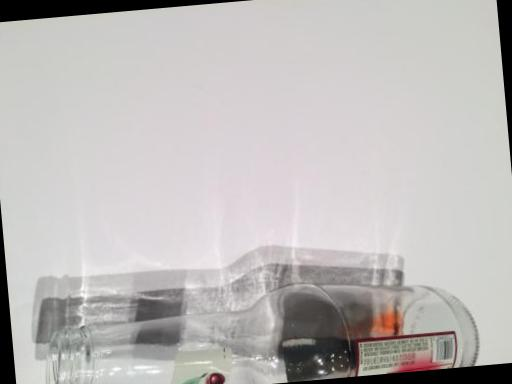glass: (32, 248, 494, 384)
